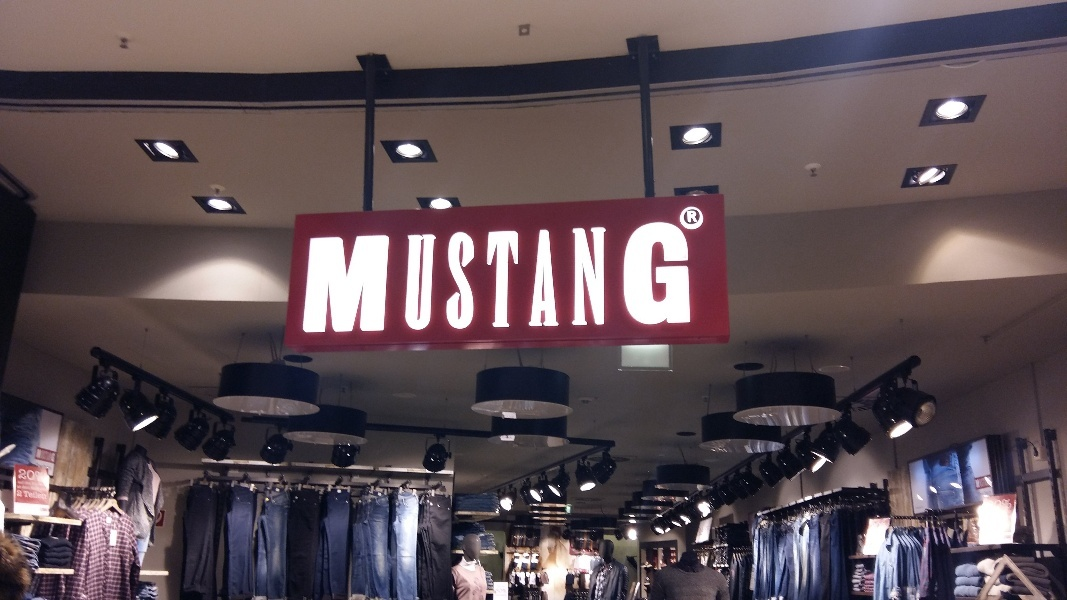text: (321, 221, 336, 334), (337, 221, 352, 334), (353, 221, 368, 334), (369, 221, 384, 334), (385, 221, 400, 334), (401, 221, 416, 334), (417, 221, 432, 334), (433, 221, 448, 334), (449, 221, 464, 334), (465, 221, 480, 334), (481, 221, 496, 334), (497, 221, 512, 334), (513, 221, 528, 334), (529, 221, 544, 334), (545, 221, 560, 334), (561, 221, 576, 334), (577, 221, 592, 334), (593, 221, 608, 334), (609, 221, 624, 334), (625, 221, 640, 334), (641, 221, 656, 334), (657, 221, 672, 334), (673, 221, 688, 334), (310, 221, 320, 334), (689, 221, 693, 334), (689, 209, 704, 229), (36, 448, 48, 463), (19, 469, 32, 481), (33, 491, 48, 501), (681, 209, 688, 229), (49, 448, 58, 463), (17, 490, 32, 499), (24, 491, 32, 501), (18, 482, 32, 487), (33, 482, 47, 487), (17, 486, 32, 490), (705, 209, 706, 229), (33, 469, 34, 481)
